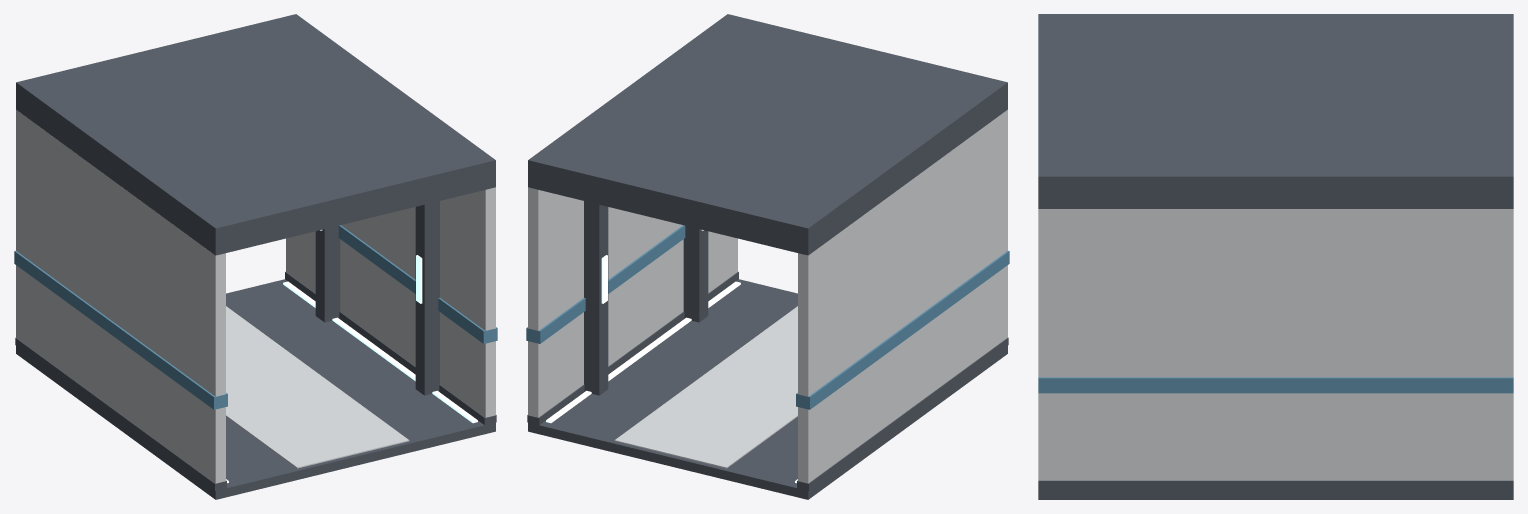
Rendered from spaceship-deck-kit-corridor-straight-92a7585a__12553.glb.
The picture shows the model from 3 angles, left to right: view 1: azimuth 30°, elevation 25°; view 2: azimuth 150°, elevation 25°; view 3: azimuth 270°, elevation 25°; orthographic projection. The views are drawn at different scales.
Visible parts, largest first — view 1: corridor-straight; view 2: corridor-straight; view 3: corridor-straight.
Boxes of the visible parts, <box> form: corridor-straight: <box>14,14,497,499</box>; corridor-straight: <box>526,14,1009,499</box>; corridor-straight: <box>1038,14,1513,499</box>.
Size of the model in its own units: 3.28 by 3 by 4.
